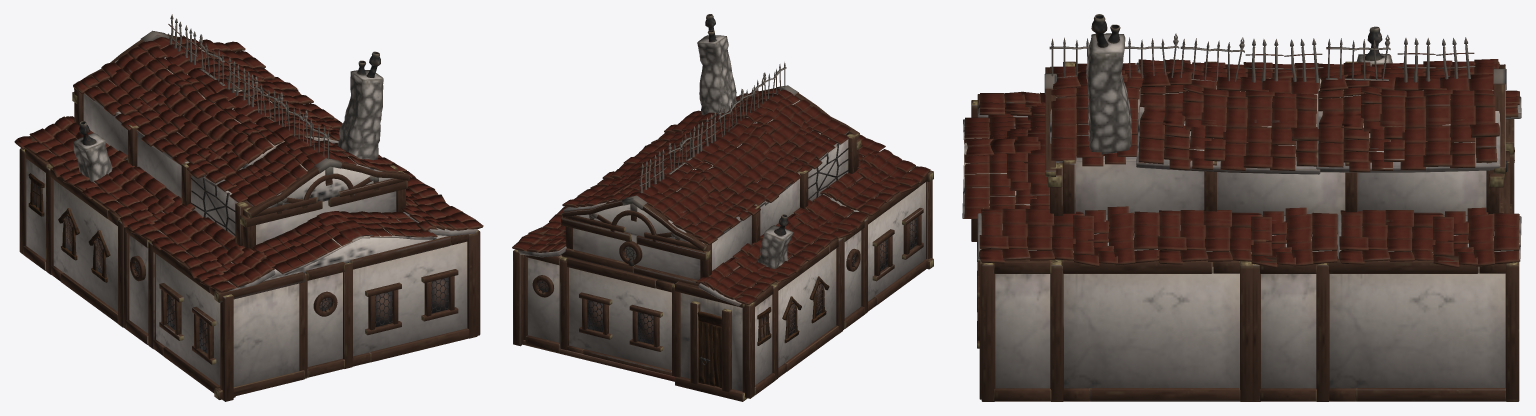
Rendered from CafeLOD.fbx.
3 views of the same model, side by side, from view 1: azimuth 30°, elevation 25°; view 2: azimuth 150°, elevation 25°; view 3: azimuth 270°, elevation 25° (orthographic). The views are drawn at different scales.
Visible parts, largest first — view 1: BigCafe_LOD0.001; view 2: BigCafe_LOD0.001; view 3: BigCafe_LOD0.001.
Boxes of the visible parts, x1=… form: BigCafe_LOD0.001: x1=14, y1=14, x2=483, y2=401; BigCafe_LOD0.001: x1=512, y1=14, x2=933, y2=401; BigCafe_LOD0.001: x1=962, y1=14, x2=1521, y2=401.
Size of what is drawn, in the model's own units: 948 by 897 by 1289.
1 material, 1 textured.
